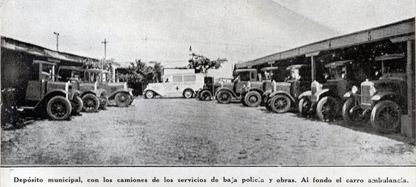ambulance: (143, 68, 205, 98)
